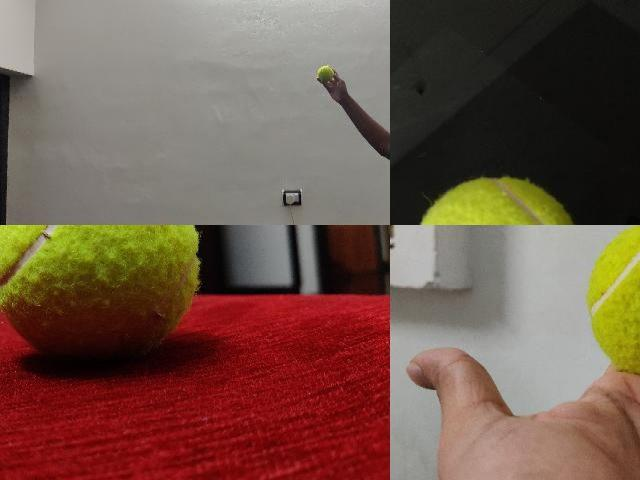tennis-ball: (0, 225, 200, 362), (586, 225, 639, 388), (410, 177, 584, 224), (316, 65, 334, 81)
